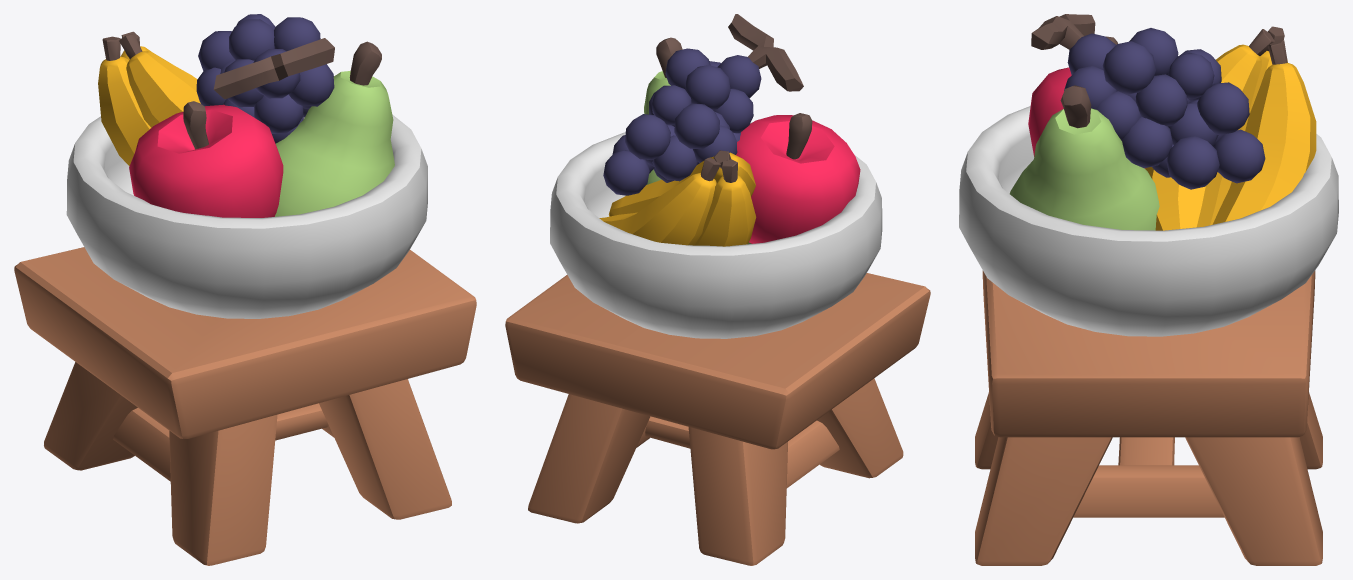
Rendered from stool_with_fruitbowl.gltf.
3 views of the same model, side by side, from view 1: azimuth 30°, elevation 25°; view 2: azimuth 150°, elevation 25°; view 3: azimuth 270°, elevation 25° (orthographic). The views are drawn at different scales.
Visible parts, largest first — view 1: stool_fruitbowl, stool_with_fruitbowl; view 2: stool_fruitbowl, stool_with_fruitbowl; view 3: stool_fruitbowl, stool_with_fruitbowl.
Boxes of the visible parts, x1,y1,x2,y2 form: stool_fruitbowl: (66,14,427,318); stool_with_fruitbowl: (14,247,476,565); stool_fruitbowl: (550,14,882,338); stool_with_fruitbowl: (505,273,930,565); stool_fruitbowl: (959,14,1338,336); stool_with_fruitbowl: (975,270,1322,565).
Size of the model in its own units: 0.7455 by 1.07 by 0.744.
